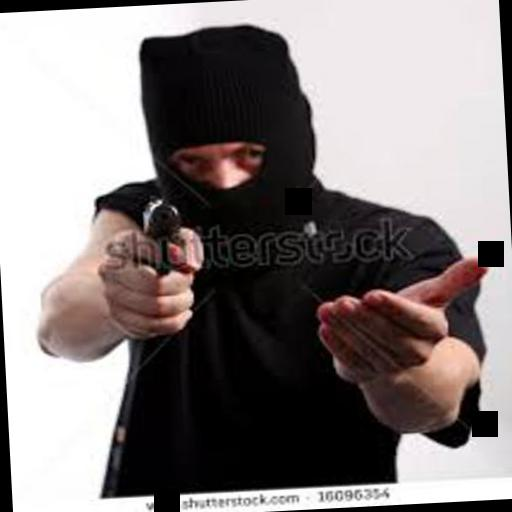Handgun: (130, 190, 186, 292)
